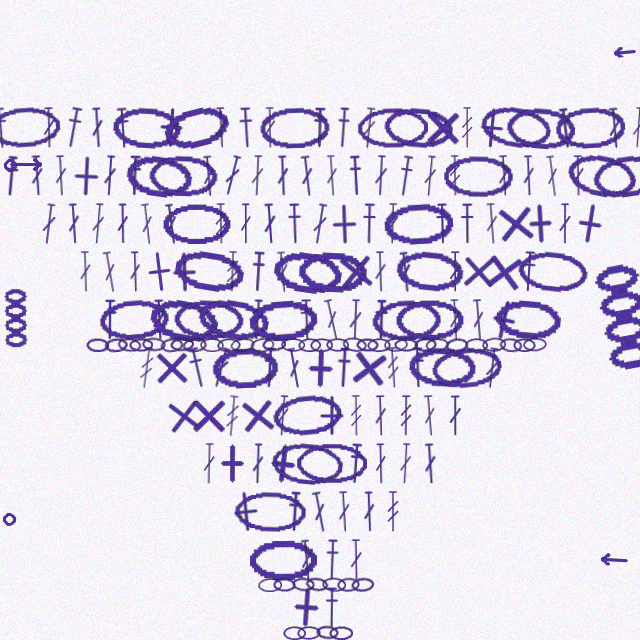chain: (159, 100, 235, 156), (564, 149, 639, 202), (195, 294, 271, 346), (146, 294, 221, 346), (171, 246, 246, 297), (478, 102, 553, 153), (270, 247, 344, 297), (123, 151, 196, 201), (516, 248, 590, 296), (430, 344, 503, 392), (270, 440, 344, 487), (271, 392, 343, 439), (394, 248, 466, 295), (98, 297, 171, 343), (382, 105, 454, 151), (247, 297, 318, 343), (493, 297, 564, 343), (505, 105, 576, 151), (382, 201, 454, 246), (111, 105, 183, 150), (554, 105, 626, 150), (407, 345, 478, 390), (173, 298, 245, 342), (259, 106, 331, 149), (371, 298, 441, 342), (148, 154, 219, 197), (234, 491, 306, 533), (297, 250, 367, 293), (443, 155, 514, 197), (357, 107, 428, 149), (211, 346, 280, 389), (296, 443, 367, 484), (395, 299, 465, 340), (162, 203, 232, 244), (248, 539, 317, 580), (0, 105, 61, 150), (590, 151, 640, 201), (342, 336, 367, 353), (305, 576, 329, 593), (117, 337, 142, 353), (182, 337, 207, 353), (230, 337, 255, 353), (250, 337, 275, 353), (104, 337, 128, 353), (160, 337, 184, 353), (425, 337, 449, 353), (445, 337, 469, 353), (499, 337, 523, 353), (322, 577, 346, 592), (142, 337, 166, 352), (170, 337, 194, 352), (262, 337, 286, 352), (384, 337, 408, 352), (482, 337, 506, 352), (523, 337, 547, 352), (316, 625, 339, 640), (292, 577, 315, 592), (337, 577, 360, 592), (351, 577, 374, 592), (414, 337, 437, 352), (297, 626, 321, 640), (329, 626, 353, 640), (258, 578, 282, 592), (129, 338, 153, 352), (200, 338, 224, 352), (217, 338, 241, 352), (281, 338, 305, 352), (367, 338, 391, 352), (394, 338, 418, 352), (283, 626, 306, 640), (273, 578, 296, 592), (86, 338, 109, 352), (298, 338, 321, 352), (310, 338, 333, 352), (326, 338, 349, 352), (356, 338, 379, 352), (465, 338, 488, 352), (513, 338, 536, 352)
double: (209, 346, 233, 389), (221, 154, 244, 197), (321, 298, 343, 341), (309, 491, 330, 533), (284, 347, 305, 389), (100, 251, 120, 293), (310, 203, 330, 245), (162, 203, 181, 245), (543, 155, 562, 197), (483, 347, 501, 389), (40, 203, 58, 245), (138, 203, 156, 245), (298, 155, 316, 197), (360, 107, 378, 149), (298, 539, 315, 581), (274, 251, 291, 293), (397, 251, 414, 293), (200, 155, 217, 197), (606, 107, 623, 149), (421, 395, 438, 436), (470, 299, 487, 340), (422, 155, 438, 197), (336, 491, 352, 532), (422, 443, 438, 484), (275, 395, 291, 436), (447, 299, 463, 340), (66, 203, 82, 244), (90, 203, 106, 244), (262, 203, 278, 244), (484, 203, 500, 244), (29, 155, 45, 196), (53, 155, 69, 196), (102, 155, 118, 196), (324, 155, 340, 196), (373, 155, 389, 196), (496, 155, 512, 196), (213, 107, 229, 148), (398, 443, 413, 484), (373, 395, 388, 436), (152, 299, 167, 340), (250, 299, 265, 340), (348, 299, 363, 340), (78, 251, 93, 292), (373, 251, 388, 292), (385, 203, 400, 244), (250, 155, 265, 196), (521, 155, 536, 196), (90, 107, 105, 148), (349, 539, 363, 580), (362, 491, 376, 532), (202, 443, 216, 484), (251, 443, 265, 484), (448, 395, 462, 436), (128, 251, 142, 292), (448, 251, 462, 292), (558, 203, 572, 244), (276, 155, 290, 196), (571, 155, 585, 196), (42, 107, 56, 148), (263, 107, 277, 148), (374, 443, 387, 484), (116, 203, 129, 244), (239, 203, 252, 244), (631, 107, 640, 148)
enseble_chain: (586, 259, 640, 380), (1, 288, 31, 351)
half_double: (185, 346, 209, 389), (62, 106, 85, 149), (395, 155, 416, 197), (2, 155, 21, 197), (556, 107, 575, 149), (114, 107, 132, 149), (286, 491, 304, 532), (335, 347, 353, 388), (249, 251, 267, 292), (520, 251, 538, 292), (237, 107, 255, 148), (347, 443, 364, 484), (261, 347, 278, 388), (409, 347, 426, 388), (298, 299, 315, 340), (286, 203, 303, 244), (434, 203, 451, 244), (126, 155, 143, 196), (347, 155, 364, 196), (311, 107, 328, 148), (335, 107, 352, 148), (324, 539, 340, 580), (102, 299, 118, 340), (373, 299, 389, 340), (361, 203, 377, 244), (459, 203, 475, 244), (324, 587, 339, 628), (0, 107, 10, 149)
noise: (9, 157, 44, 171), (598, 553, 628, 566), (611, 46, 636, 58), (2, 157, 19, 174), (1, 511, 18, 528)
single: (480, 296, 528, 344), (566, 200, 613, 247), (161, 393, 207, 439), (346, 345, 392, 391), (481, 249, 527, 295), (223, 489, 268, 534), (260, 441, 305, 486), (235, 393, 280, 438), (137, 249, 182, 294), (333, 249, 378, 294), (493, 201, 538, 246), (470, 106, 514, 150), (285, 586, 328, 629), (457, 250, 500, 293), (519, 202, 562, 245), (150, 106, 193, 149), (299, 347, 341, 389), (163, 251, 205, 293), (323, 203, 365, 245), (65, 155, 107, 197), (212, 443, 253, 484), (188, 395, 229, 436), (311, 395, 352, 436), (151, 347, 192, 388), (422, 107, 463, 148)
treble: (137, 347, 156, 389), (224, 395, 241, 437), (385, 347, 401, 388), (225, 251, 240, 292), (386, 491, 400, 532), (349, 395, 363, 436), (399, 395, 413, 436), (214, 203, 228, 244), (448, 155, 462, 196), (460, 107, 474, 148)
